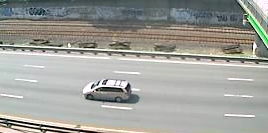car: (80, 76, 135, 104)
